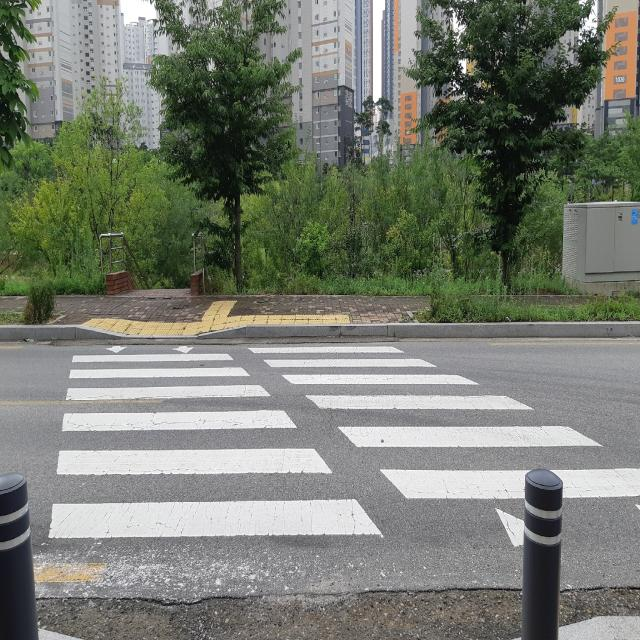횡단보도: (46, 337, 640, 551)
